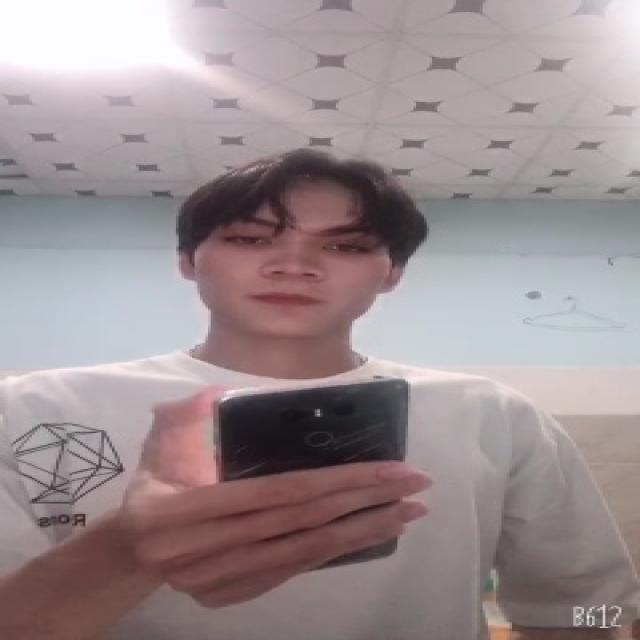Phone: (210, 374, 417, 569)
